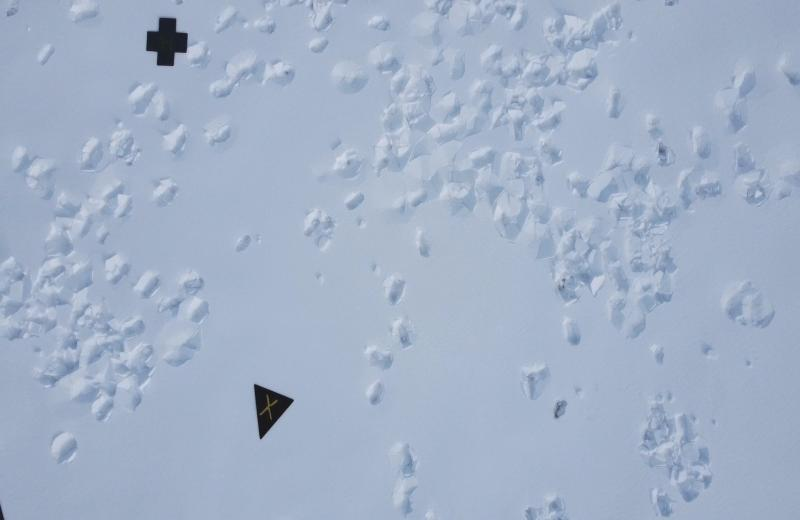Cross: (145, 17, 188, 67)
Triangle: (249, 382, 295, 439)
